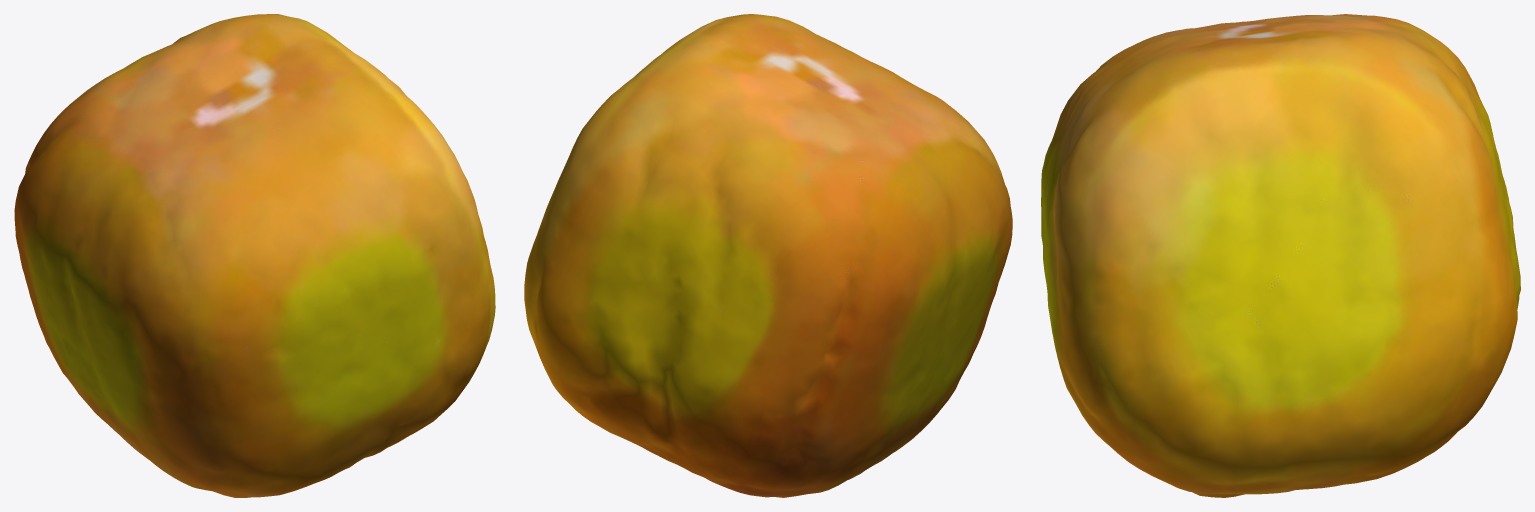
Rendered from A_yellow_orange_rubbery_gems_0406174504_preview.fbx.
3 renders of one model, left to right at view 1: azimuth 30°, elevation 25°; view 2: azimuth 150°, elevation 25°; view 3: azimuth 270°, elevation 25°, orthographic. The views are drawn at different scales.
Parts seen in each view (by area): view 1: Mesh1; view 2: Mesh1; view 3: Mesh1.
Boxes of the visible parts, <box> form: Mesh1: <box>14,14,495,497</box>; Mesh1: <box>524,14,1012,497</box>; Mesh1: <box>1041,14,1520,497</box>.
Bounding box in the file's own units: 116 × 120 × 115.
1 material, 1 textured.
